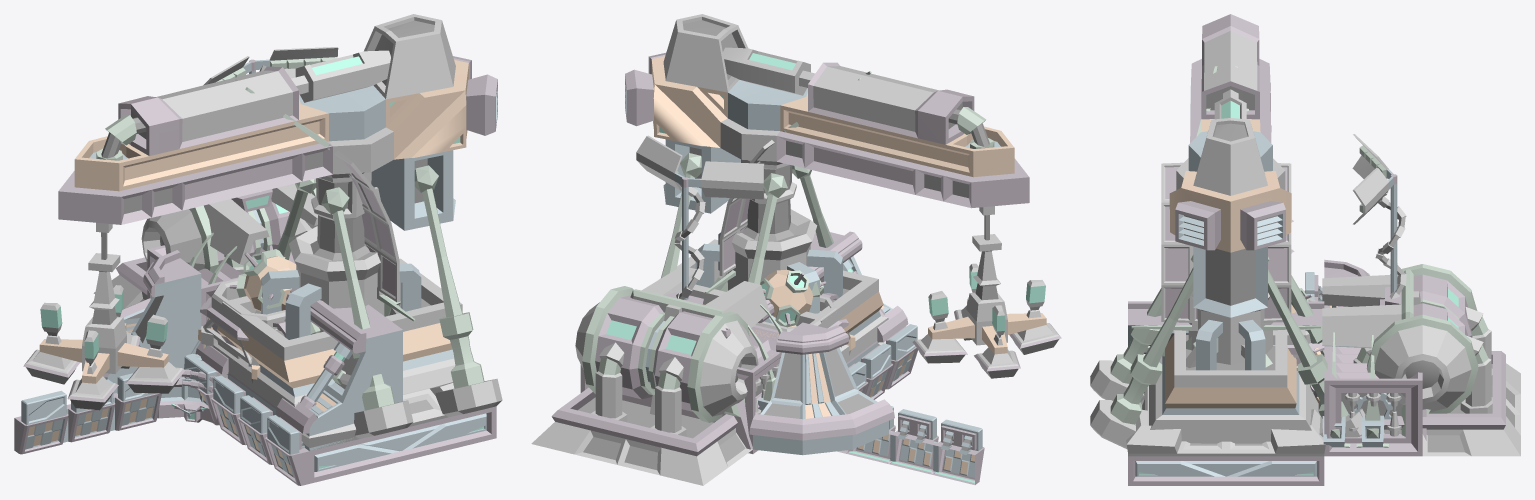
3 renders of one model, left to right at view 1: azimuth 30°, elevation 25°; view 2: azimuth 150°, elevation 25°; view 3: azimuth 270°, elevation 25°, orthographic. The views are drawn at different scales.
Visible parts, largest first — view 1: Tower_crane, Fence_Corner, Wall, Console, Floor_A, Energy_storage_tank, Solar_collector, Corner_A, Power_station, Transport_machines_A, Container_Big_D, Fence; view 2: Tower_crane, Energy_storage_tank, Corner_A, Console, Fence_Corner, Wall, Transport_machines_A, Container_Big_D, Solar_collector, Power_station; view 3: Tower_crane, Energy_storage_tank, Console, Solar_collector, Container_Big_D, Floor_A, Wall, Corner_A, Power_station.
Part boxes in pixels (<box>): Tower_crane: <box>23,14,502,438</box>; Fence_Corner: <box>14,369,309,485</box>; Wall: <box>195,252,402,451</box>; Console: <box>189,47,338,353</box>; Floor_A: <box>309,406,496,483</box>; Energy_storage_tank: <box>93,188,316,309</box>; Solar_collector: <box>219,79,454,450</box>; Corner_A: <box>103,250,201,393</box>; Power_station: <box>200,278,285,387</box>; Transport_machines_A: <box>198,245,296,383</box>; Container_Big_D: <box>147,245,265,326</box>; Fence: <box>182,354,219,425</box>; Tower_crane: <box>625,14,1061,378</box>; Energy_storage_tank: <box>531,286,761,485</box>; Corner_A: <box>749,322,894,455</box>; Console: <box>622,135,782,449</box>; Fence_Corner: <box>837,324,984,484</box>; Wall: <box>758,231,908,367</box>; Transport_machines_A: <box>760,269,855,355</box>; Container_Big_D: <box>580,325,781,448</box>; Solar_collector: <box>705,71,885,345</box>; Power_station: <box>755,296,848,362</box>; Tower_crane: <box>1090,14,1365,448</box>; Energy_storage_tank: <box>1353,264,1520,456</box>; Console: <box>1322,134,1430,447</box>; Solar_collector: <box>1126,66,1325,456</box>; Container_Big_D: <box>1324,305,1422,456</box>; Floor_A: <box>1128,456,1324,485</box>; Wall: <box>1128,301,1324,356</box>; Corner_A: <box>1324,259,1370,278</box>; Power_station: <box>1273,298,1324,385</box>.
Size of the model in its own units: 705 by 589 by 658.
